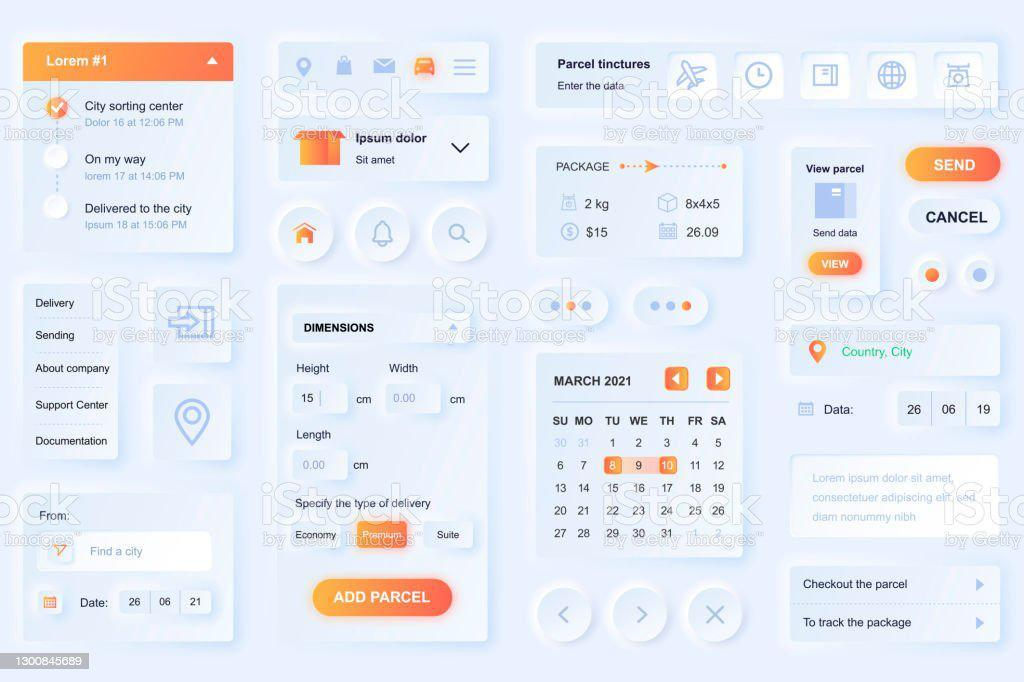button: (314, 579, 455, 618), (688, 582, 749, 651), (908, 200, 1002, 239), (609, 587, 672, 645), (538, 584, 595, 646), (907, 147, 1002, 184), (810, 252, 864, 276), (359, 522, 409, 547), (292, 524, 341, 548), (425, 524, 474, 547)
checkbox: (48, 98, 70, 122)
dropdown: (279, 116, 490, 182), (26, 44, 234, 81), (294, 311, 469, 345)
icon: (675, 58, 713, 94), (450, 54, 484, 86), (878, 61, 909, 91), (745, 61, 775, 91), (446, 220, 472, 252), (371, 219, 396, 251), (945, 63, 974, 90), (806, 339, 833, 368), (292, 220, 319, 249), (812, 64, 841, 88), (373, 54, 399, 80), (653, 191, 680, 215), (334, 53, 357, 80), (658, 220, 680, 248), (413, 56, 438, 79), (559, 193, 582, 218), (795, 398, 818, 422), (295, 56, 317, 81), (561, 223, 583, 246)
input: (40, 532, 213, 572)
label: (683, 194, 723, 214), (298, 427, 340, 444), (685, 224, 724, 241), (293, 361, 336, 376), (583, 196, 613, 217), (38, 508, 73, 526), (386, 360, 422, 374), (585, 225, 612, 241)
radio: (43, 144, 70, 169), (47, 196, 70, 220)
